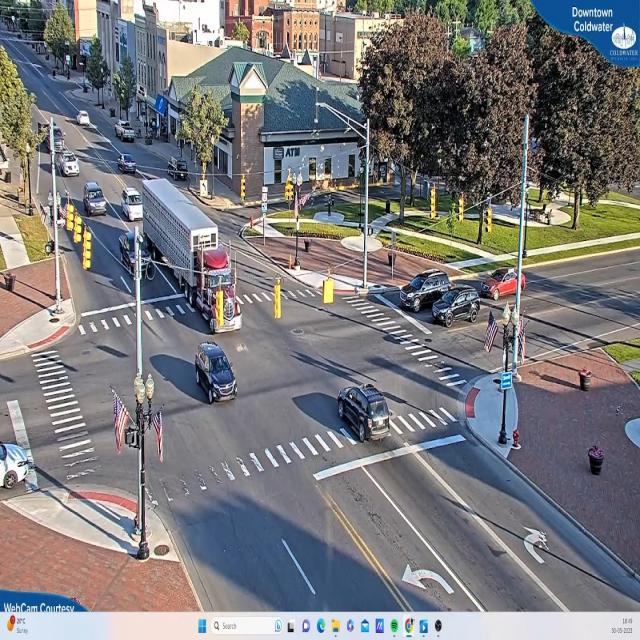car: (339, 384, 394, 442), (194, 342, 238, 402), (400, 272, 455, 314), (432, 289, 480, 327), (120, 228, 151, 284), (483, 271, 528, 303), (84, 182, 108, 218), (121, 186, 144, 222), (53, 152, 80, 177), (117, 121, 137, 144), (118, 155, 137, 173), (78, 112, 91, 128)
truck: (173, 216, 243, 336)
